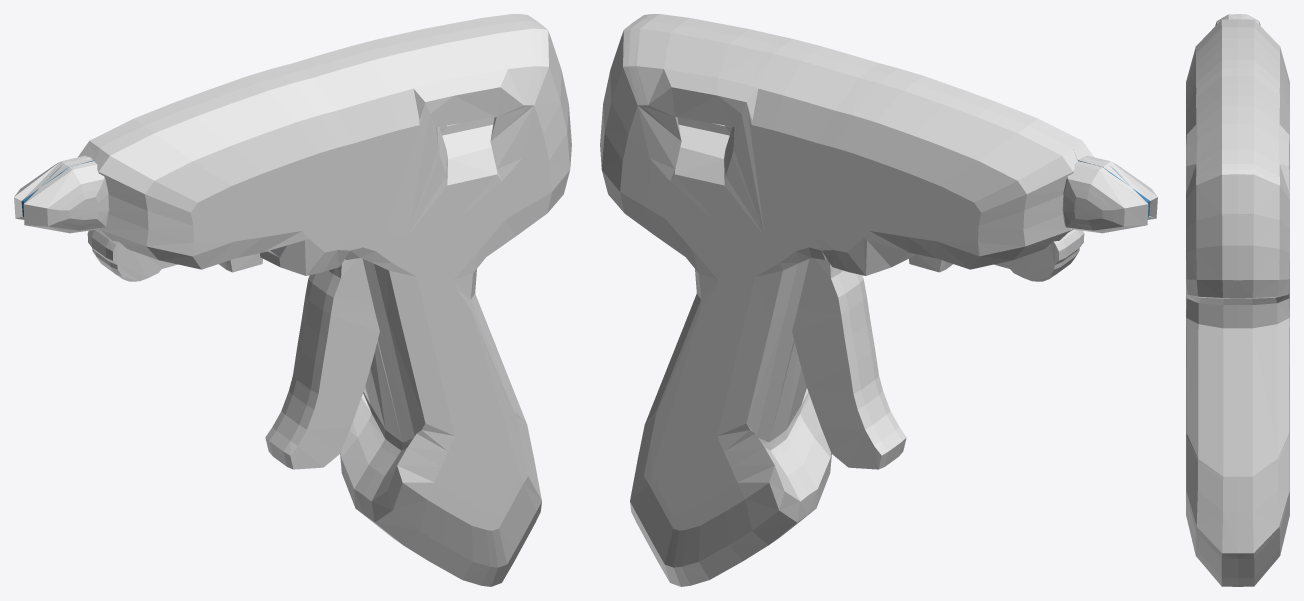
Rendered from GlueGun.dae.
The picture shows the model from 3 angles, left to right: view 1: azimuth 30°, elevation 25°; view 2: azimuth 150°, elevation 25°; view 3: azimuth 270°, elevation 25°; orthographic projection. The views are drawn at different scales.
Parts seen in each view (by area): view 1: Plane; view 2: Plane; view 3: Plane.
Part boxes in pixels (bbox=[...]): Plane: bbox=[14, 14, 571, 586]; Plane: bbox=[600, 14, 1157, 586]; Plane: bbox=[1186, 14, 1289, 586].
Size of the model in its own units: 2.07 by 0.4319 by 2.02.
Materials: 2 (1 with a texture image).
